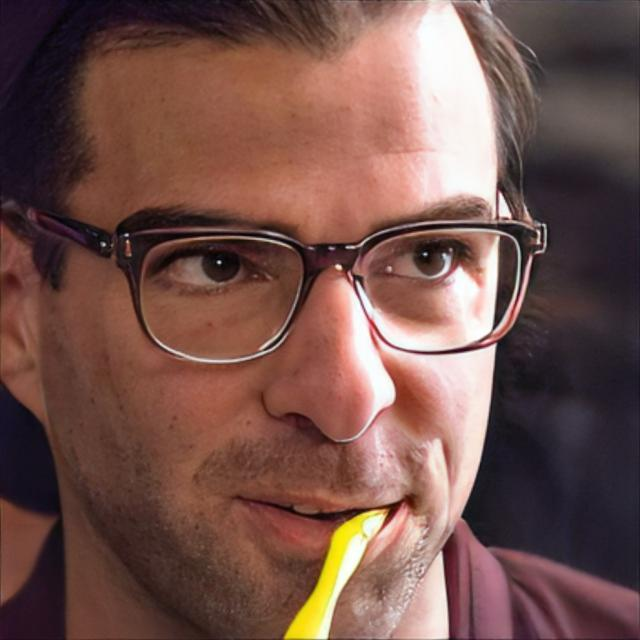content: (76, 57, 512, 640)
